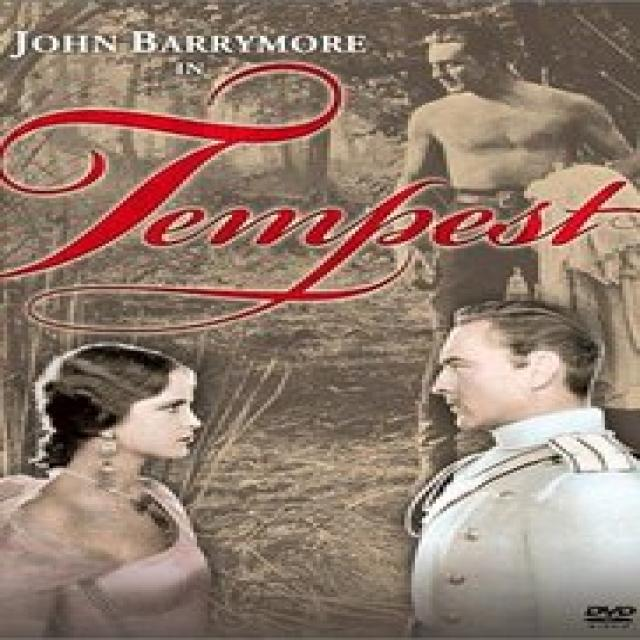movie-judul: (2, 21, 640, 340)
picture: (3, 4, 640, 630)
